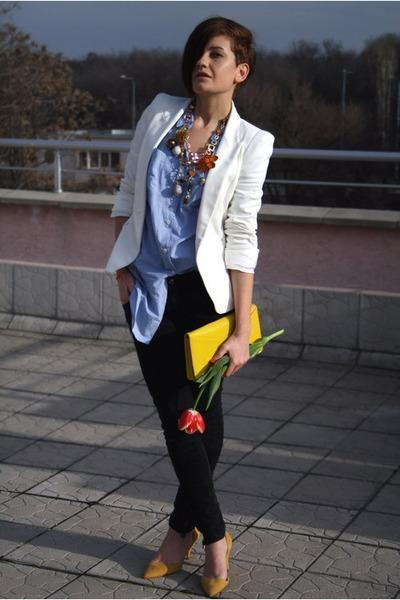bag: (187, 317, 228, 371)
jacket: (108, 93, 274, 313)
pants: (133, 266, 227, 546)
shirt: (129, 124, 224, 342)
shoe: (144, 548, 243, 599)
